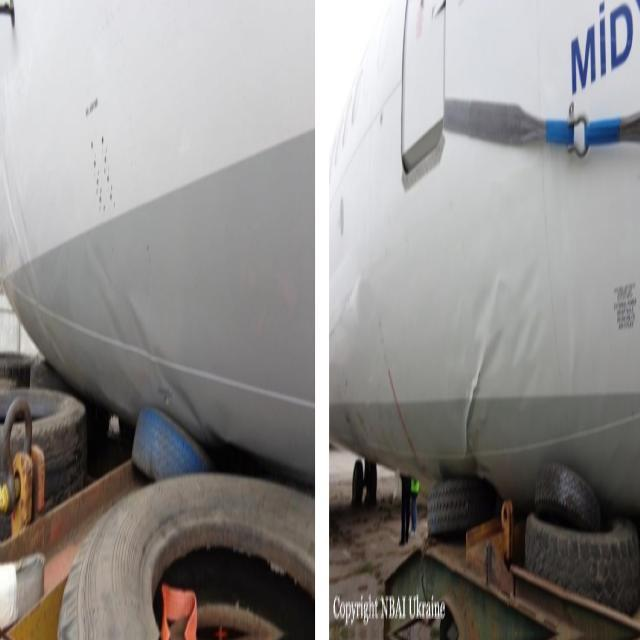dent: (85, 209, 222, 449), (463, 273, 544, 489)
